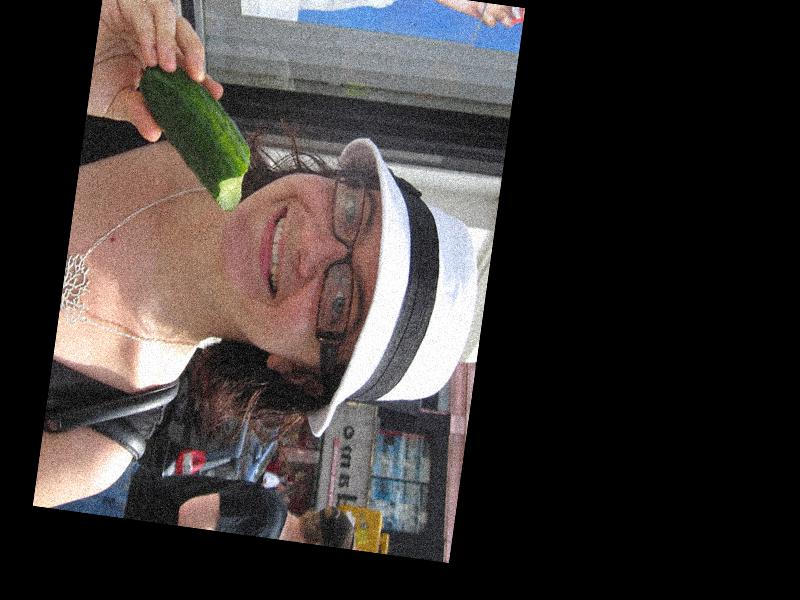Cucumber: (124, 59, 261, 211)
